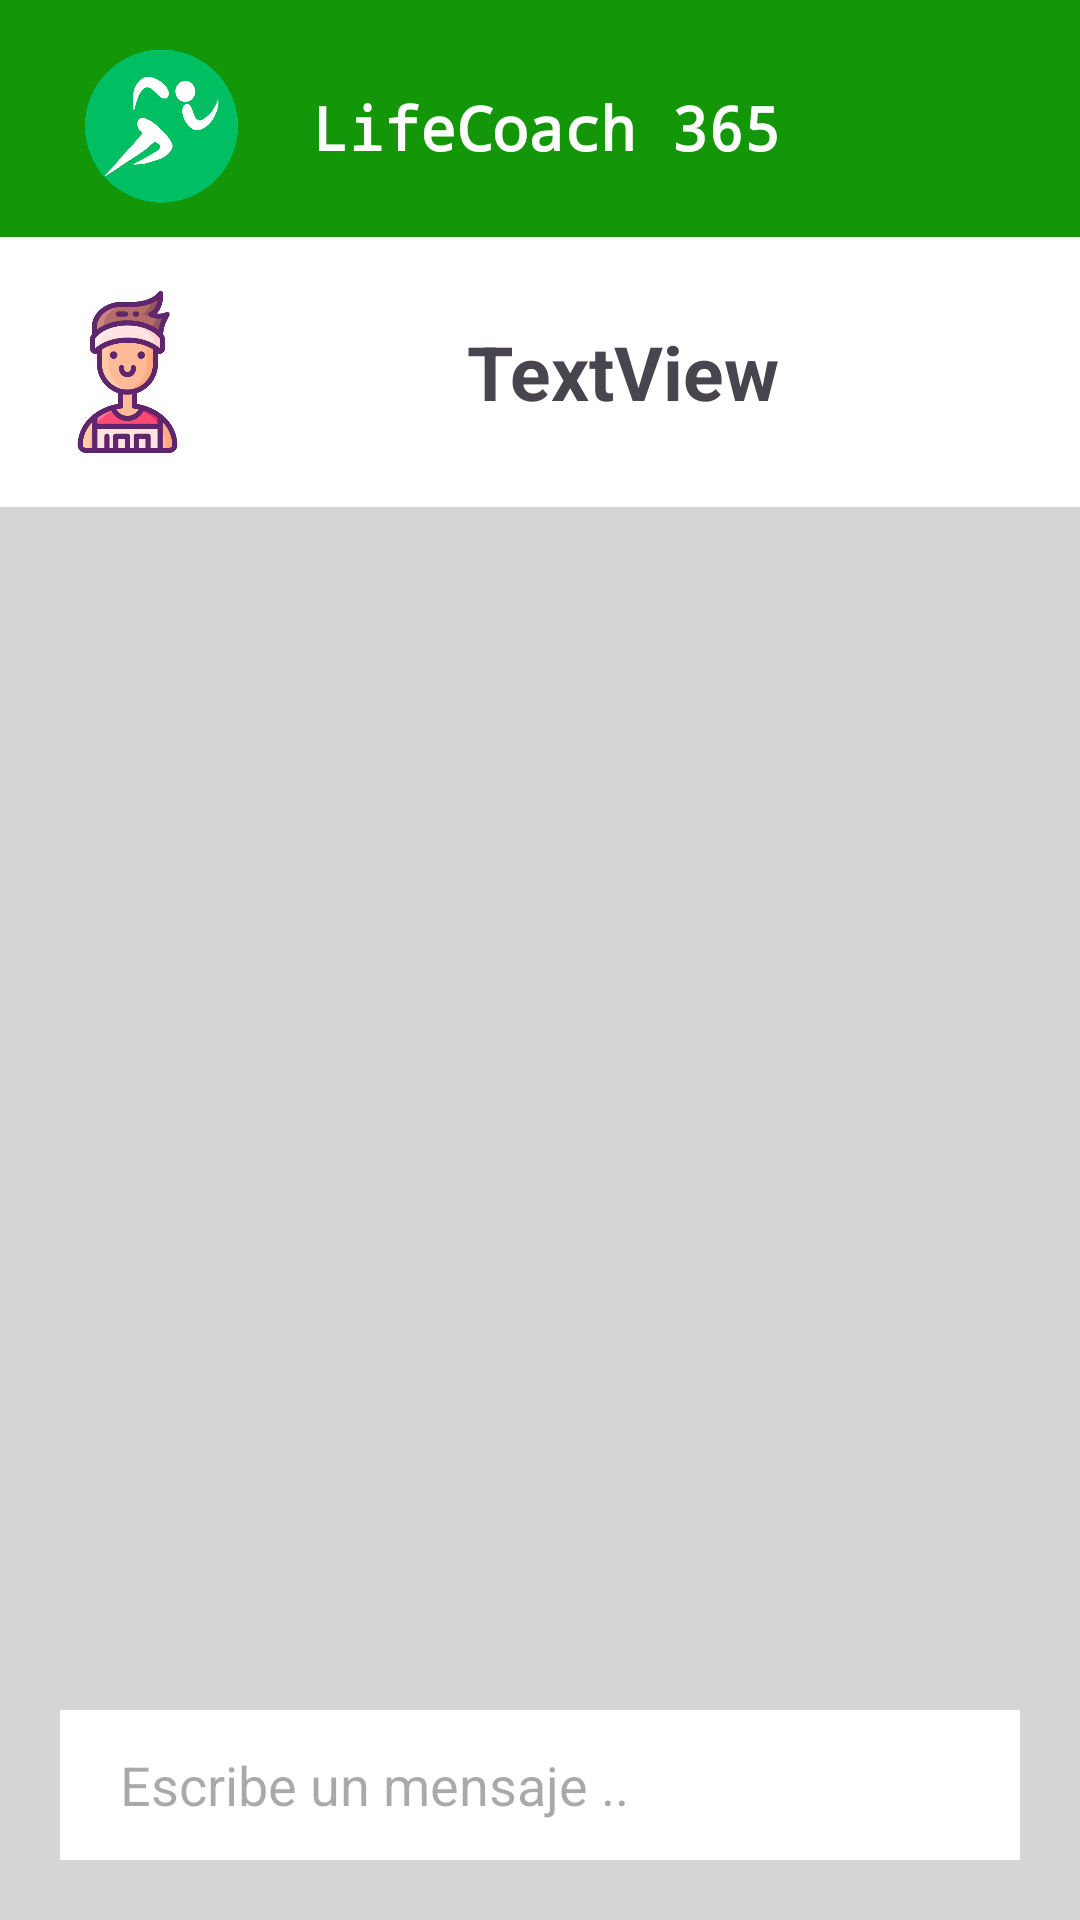

Named icons in this screenshot (1080px x 1920px) and their centers, point (x, y):
usuario: point (127, 372)
